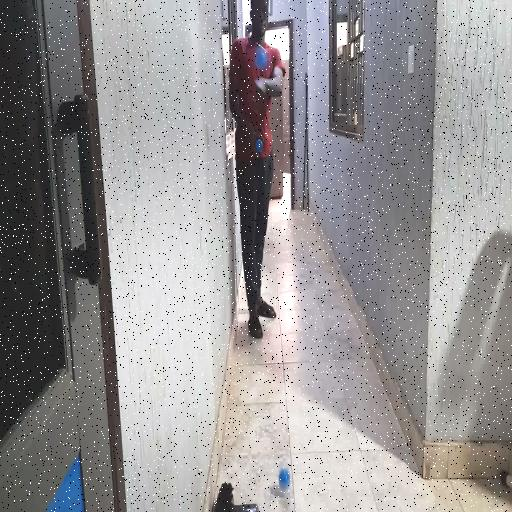plastic-ball: (254, 44, 269, 72)
